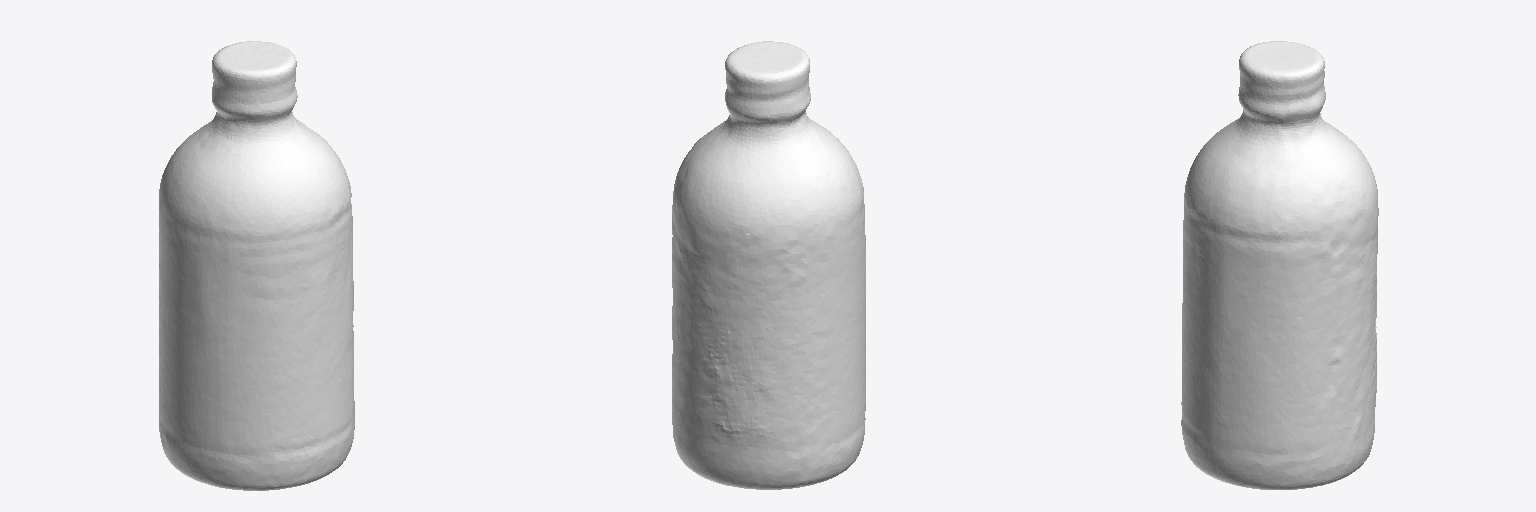
File: resizedbactidol.obj
3 renders of one model, left to right at view 1: azimuth 30°, elevation 25°; view 2: azimuth 150°, elevation 25°; view 3: azimuth 270°, elevation 25°, orthographic.
Visible parts, largest first — view 1: Bactidol; view 2: Bactidol; view 3: Bactidol.
Boxes of the visible parts, <box> form: Bactidol: <box>159,41,354,490</box>; Bactidol: <box>672,41,865,489</box>; Bactidol: <box>1181,41,1378,489</box>.
Bounding box in the file's own units: 0.0625 × 0.1419 × 0.0633.